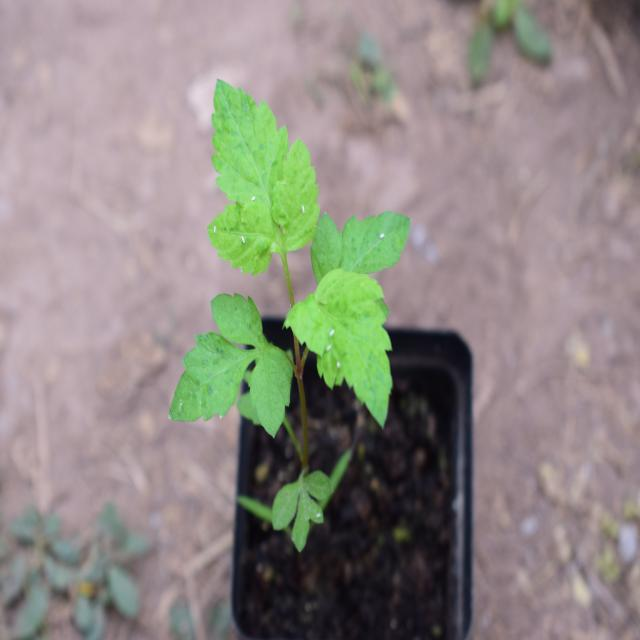Bidens pilosa: (164, 84, 412, 485)
